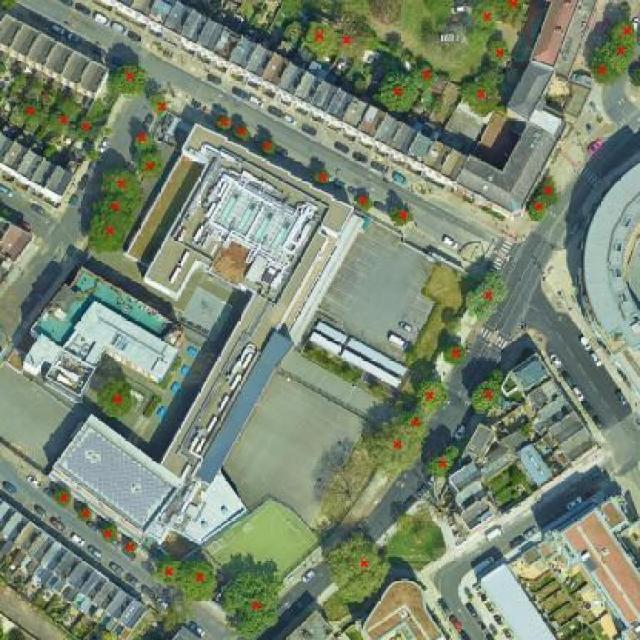tree: (311, 435, 389, 533), (219, 558, 292, 640), (322, 529, 395, 606), (356, 419, 427, 481), (370, 65, 425, 122), (461, 268, 515, 325), (456, 65, 507, 118), (84, 209, 135, 258), (93, 163, 156, 202), (329, 15, 376, 64), (416, 443, 469, 486), (176, 558, 224, 604), (93, 375, 139, 419), (105, 58, 153, 100), (299, 17, 341, 63), (466, 373, 506, 416), (409, 378, 454, 416), (360, 0, 411, 31), (84, 196, 144, 222), (594, 37, 637, 72), (579, 54, 625, 86), (479, 28, 513, 70), (395, 409, 436, 443), (14, 94, 46, 134), (438, 334, 471, 372), (133, 150, 169, 184), (607, 10, 640, 44), (141, 91, 177, 122), (68, 110, 103, 141), (408, 53, 437, 90), (43, 109, 77, 138), (467, 3, 501, 32), (535, 171, 563, 206), (523, 190, 551, 225), (393, 506, 419, 543), (385, 202, 418, 230), (152, 554, 178, 588), (493, 0, 530, 23), (48, 485, 79, 512), (350, 189, 378, 217), (128, 129, 160, 152), (362, 378, 390, 404), (208, 112, 237, 136), (253, 134, 281, 158), (93, 521, 121, 545), (309, 167, 336, 191), (229, 120, 251, 148), (149, 93, 173, 116), (72, 503, 94, 523), (119, 536, 139, 556)
